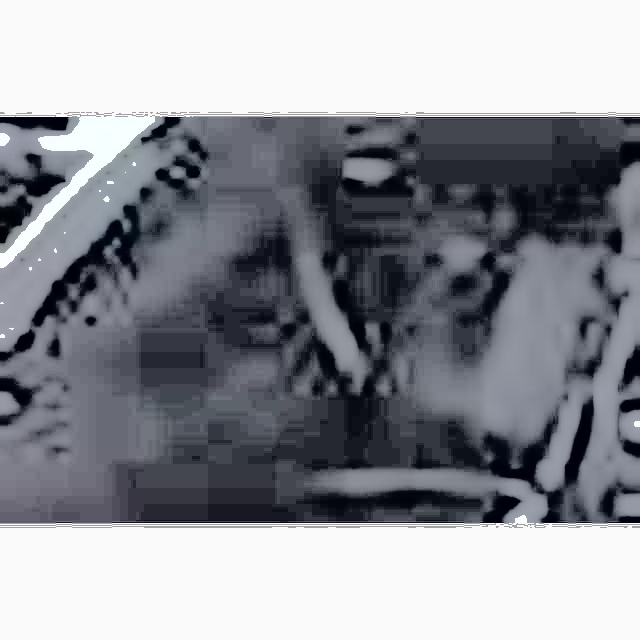pakai: (225, 152, 476, 411)
